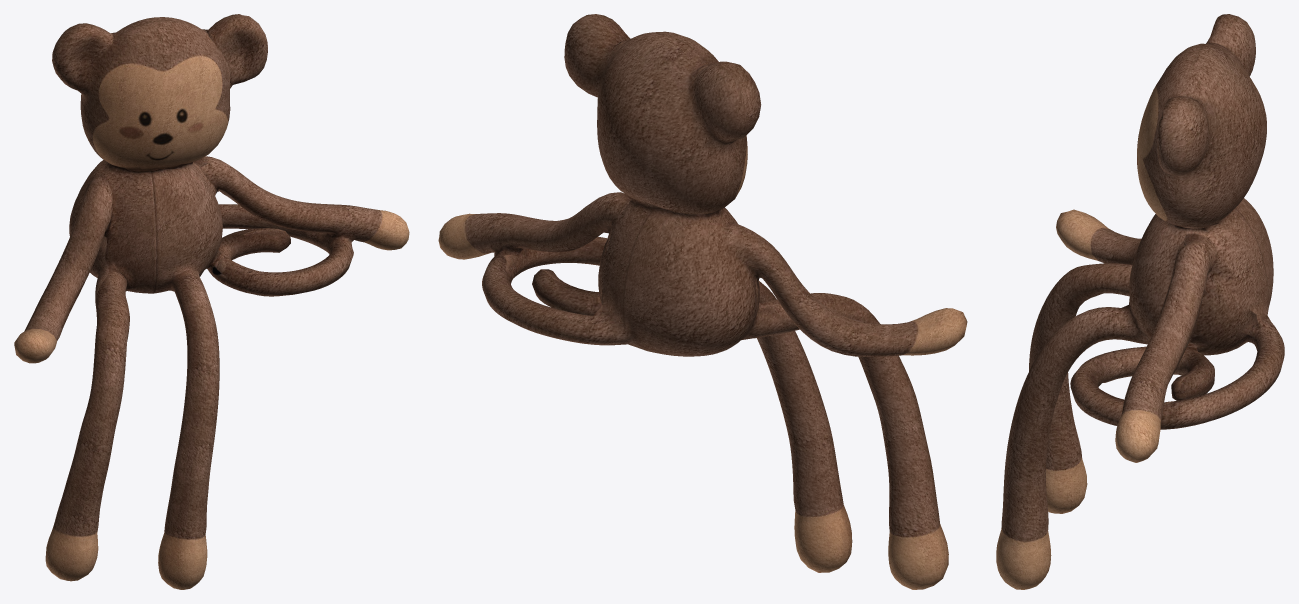
File: monkey.glb
The picture shows the model from 3 angles, left to right: view 1: azimuth 30°, elevation 25°; view 2: azimuth 150°, elevation 25°; view 3: azimuth 270°, elevation 25°; orthographic projection. The views are drawn at different scales.
Parts seen in each view (by area): view 1: lores monkey; view 2: lores monkey; view 3: lores monkey.
Boxes of the visible parts, x1,y1,x2,y2 form: lores monkey: (14, 14, 409, 589); lores monkey: (438, 14, 967, 589); lores monkey: (996, 14, 1284, 589).
Bounding box in the file's own units: 0.2721 × 0.3111 × 0.1437.
1 material, 1 textured.
